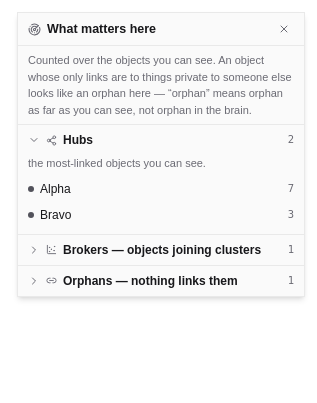
Test: InsightPanelView › says when a broker score is an estimate rather than the exact answer
Click the button "Brokers — objects joining clusters 1" at (161, 250), box [18,234,304,264]
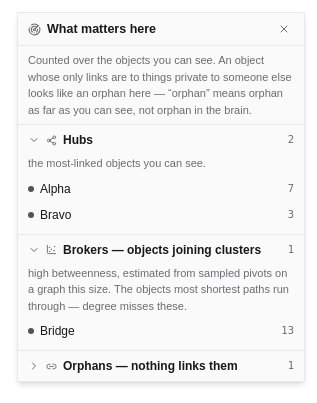
Result: the text "sampled pivots" is shown at [28,266,289,312]
